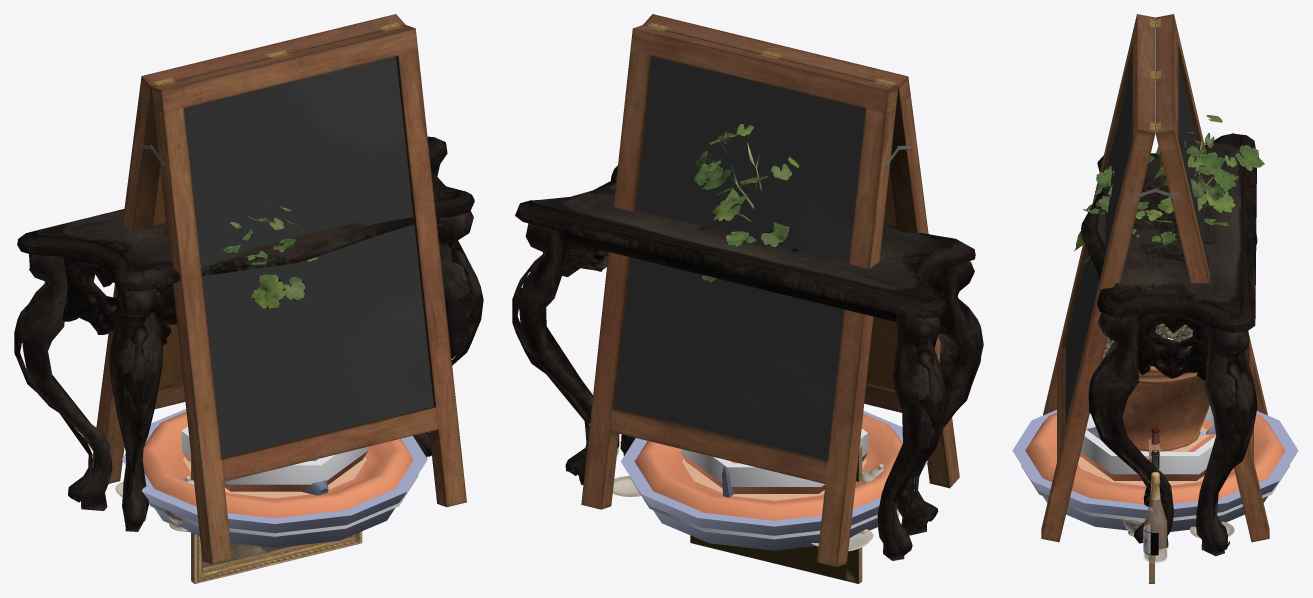
The model's file is restaurant.glb.
3 renders of one model, left to right at view 1: azimuth 30°, elevation 25°; view 2: azimuth 150°, elevation 25°; view 3: azimuth 270°, elevation 25°, orthographic. The views are drawn at different scales.
Visible parts, largest first — view 1: standing_chalkboard_01, ClassicConsole_01, pie, bowl-soup, fancy_picture_frame_01, potted_plant_01_leaves, plate, fancy_picture_frame_01_canvas; view 2: standing_chalkboard_01, ClassicConsole_01, pie, potted_plant_01_leaves, bowl-soup, fancy_picture_frame_01, plate; view 3: ClassicConsole_01, standing_chalkboard_01, pie, potted_plant_01_pot, potted_plant_01_leaves, bowl-soup, wine_bottles_01_champagne, plate, potted_plant_01_pebbles.
Part boxes in pixels (box(x1,y1,x2,y2)): standing_chalkboard_01: box(92, 14, 466, 564); ClassicConsole_01: box(14, 136, 483, 531); pie: box(122, 409, 427, 547); bowl-soup: box(181, 426, 368, 491); fancy_picture_frame_01: box(191, 455, 362, 583); potted_plant_01_leaves: box(222, 200, 318, 308); plate: box(148, 475, 418, 536); fancy_picture_frame_01_canvas: box(203, 543, 292, 567); standing_chalkboard_01: box(581, 14, 959, 566); ClassicConsole_01: box(512, 165, 983, 560); pie: box(620, 410, 927, 550); potted_plant_01_leaves: box(693, 124, 799, 281); bowl-soup: box(680, 428, 868, 493); fancy_picture_frame_01: box(690, 445, 862, 583); plate: box(630, 477, 914, 539); ClassicConsole_01: box(1081, 133, 1257, 556); standing_chalkboard_01: box(1041, 14, 1269, 542); pie: box(1012, 410, 1298, 531); potted_plant_01_pot: box(1102, 354, 1209, 450); potted_plant_01_leaves: box(1074, 114, 1264, 327); bowl-soup: box(1080, 405, 1216, 480); wine_bottles_01_champagne: box(1143, 472, 1166, 562); plate: box(1021, 465, 1289, 521); potted_plant_01_pebbles: box(1103, 324, 1192, 354).
Bounding box in the file's own units: 1.54 × 1.74 × 0.9504.
Materials: 22 (16 with a texture image).
